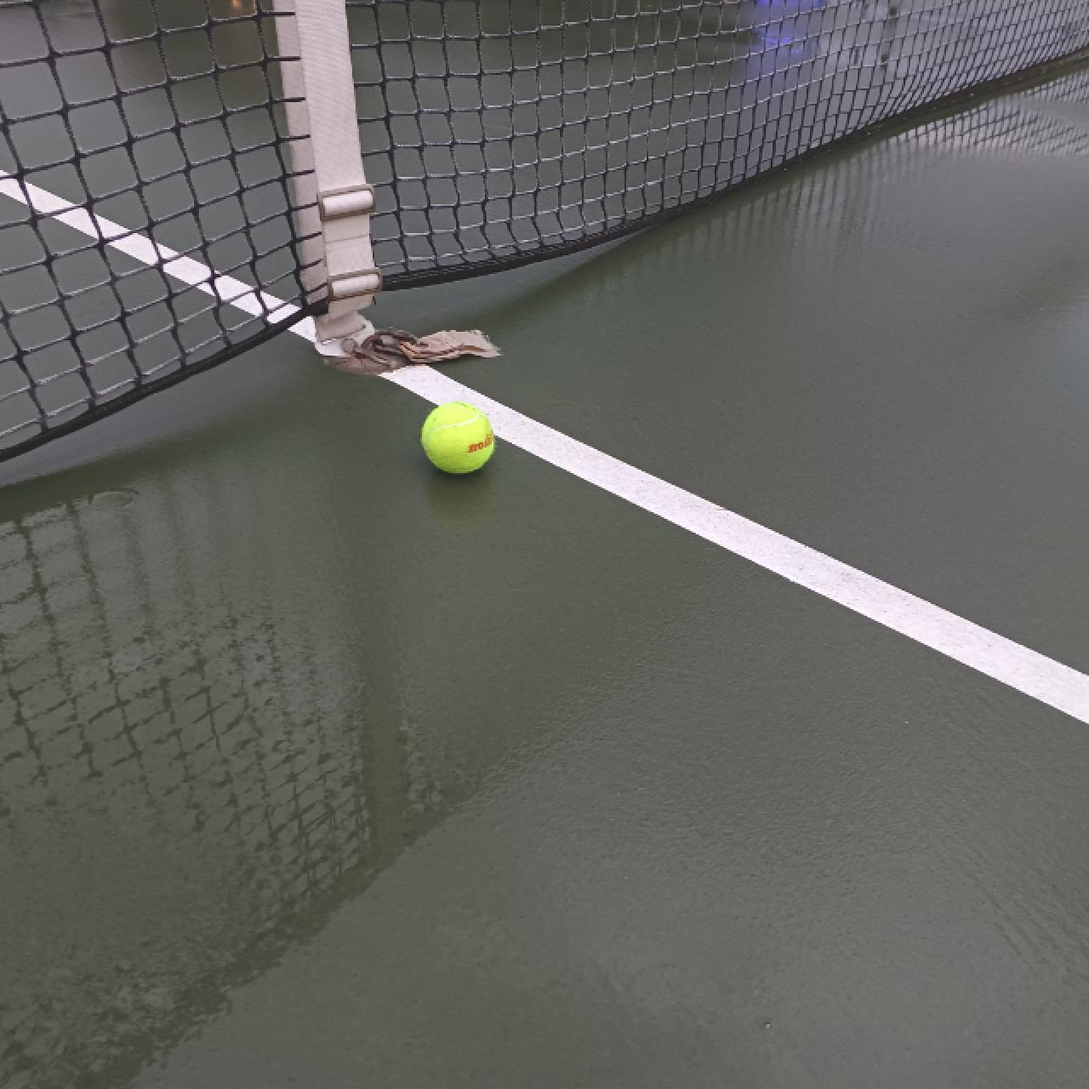tennis-ball: (421, 401, 494, 475)
